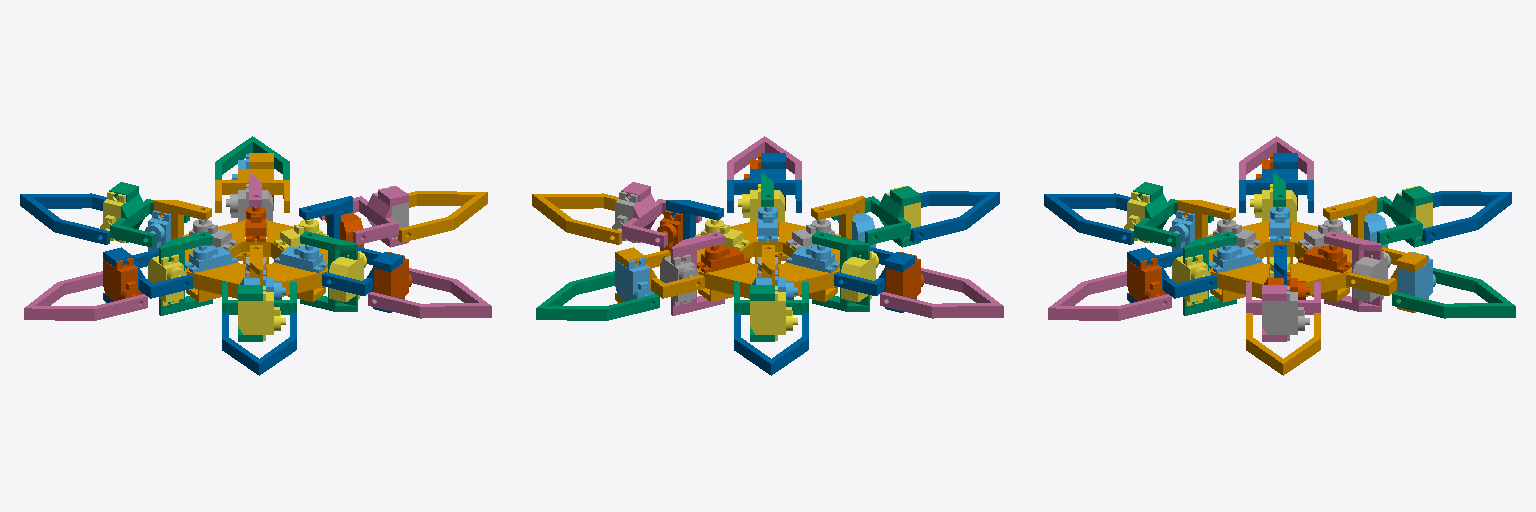
--- What the picture shows (computed from the rendered views, not written in the file) ---
The picture shows the robot from 3 angles, left to right: view 1: azimuth 30°, elevation 25°; view 2: azimuth 150°, elevation 25°; view 3: azimuth 270°, elevation 25°; orthographic projection.
Robot: MiniHex — 37 links, 36 joints (18 continuous, 18 fixed); root link base_link; default pose: all joints at 0.
Links seen in each view (by area): view 1: base_link, Hex_Leg_End_51, Hex_Leg_End_11, Hex_Leg_End_21, Hex_Leg_End_41, Hex_Leg_Joint_41, Hex_Leg_Joint_21, Hex_Leg_Joint_31, Hex_Leg_End_61, Hex_Leg_Joint_11, Hip_Mount_51, 9g_servo_6C1 (+18 smaller); view 2: base_link, Hex_Leg_End_11, Hex_Leg_End_31, Hex_Leg_End_41, Hex_Leg_End_61, Hex_Leg_Joint_61, Hex_Leg_Joint_41, Hex_Leg_Joint_51, Hex_Leg_End_21, Hex_Leg_Joint_31, Hip_Mount_11, 9g_servo_2C1 (+18 smaller); view 3: base_link, Hex_Leg_End_31, Hex_Leg_End_51, Hex_Leg_End_61, Hex_Leg_End_21, Hex_Leg_Joint_21, Hex_Leg_Joint_61, Hex_Leg_Joint_11, Hex_Leg_End_41, Hex_Leg_Joint_51, Hip_Mount_31, 9g_servo_4C1 (+18 smaller).
Boxes of the visible links, x1,y1,x2,y2 form: base_link: (183, 220, 328, 302); Hex_Leg_End_51: (368, 268, 491, 318); Hex_Leg_End_11: (24, 271, 147, 320); Hex_Leg_End_21: (20, 193, 109, 244); Hex_Leg_End_41: (398, 191, 487, 242); Hex_Leg_Joint_41: (319, 186, 408, 247); Hex_Leg_Joint_21: (109, 182, 189, 247); Hex_Leg_Joint_31: (215, 153, 289, 212); Hex_Leg_End_61: (222, 313, 296, 375); Hex_Leg_Joint_11: (103, 247, 192, 302); Hip_Mount_51: (300, 231, 357, 311); 9g_servo_6C1: (238, 286, 285, 340); base_link: (695, 220, 840, 302); Hex_Leg_End_11: (880, 268, 1003, 318); Hex_Leg_End_31: (536, 271, 659, 320); Hex_Leg_End_41: (532, 193, 621, 244); Hex_Leg_End_61: (910, 191, 999, 242); Hex_Leg_Joint_61: (831, 186, 920, 247); Hex_Leg_Joint_41: (621, 182, 701, 247); Hex_Leg_Joint_51: (727, 153, 801, 212); Hex_Leg_End_21: (734, 313, 808, 375); Hex_Leg_Joint_31: (615, 247, 704, 302); Hip_Mount_11: (812, 231, 869, 311); 9g_servo_2C1: (750, 286, 797, 340); base_link: (1207, 220, 1352, 302); Hex_Leg_End_31: (1392, 268, 1515, 318); Hex_Leg_End_51: (1048, 271, 1171, 320); Hex_Leg_End_61: (1044, 193, 1133, 244); Hex_Leg_End_21: (1422, 191, 1511, 242); Hex_Leg_Joint_21: (1343, 186, 1432, 247); Hex_Leg_Joint_61: (1133, 182, 1213, 247); Hex_Leg_Joint_11: (1239, 153, 1313, 212); Hex_Leg_End_41: (1246, 313, 1320, 375); Hex_Leg_Joint_51: (1127, 247, 1216, 302); Hip_Mount_31: (1324, 231, 1381, 311); 9g_servo_4C1: (1262, 286, 1309, 340).
Size in the robot's own frame: 0.3335 by 0.2909 by 0.046 metres.
37 mesh visuals loaded from 37 distinct referenced files (37 binary STL).

The robot description file, URDF, robot "MiniHex":
<?xml version="1.0" ?>
<robot name="MiniHex">

<material name="silver">
  <color rgba="0.700 0.700 0.700 1.000"/>
</material>

<material name="red">
  <color rgba="1.000 0.000 0.000 1.000"/>
</material>

<material name="green">
  <color rgba="0.000 1.000 0.000 1.000"/>
</material>

<material name="blue">
  <color rgba="0.000 0.000 1.000 1.000"/>
</material>

<material name="yellow">
  <color rgba="1.000 0.900 0.000 1.000"/>
</material>

<link name="base_link">
  <inertial>
    <origin xyz="-2.5465707758764093e-16 -3.145863765132658e-13 0.0024101543695510897" rpy="0 0 0"/>
    <mass value="0.42053809047151236"/>
    <inertia ixx="0.00028254911235019707" iyy="0.00028226882743274896" izz="0.0005380720803144401" ixy="-7.139533408580586e-19" iyz="-1.2041830102324297e-16" ixz="-1.688664970194084e-19"/>
  </inertial>
  <visual>
    <origin xyz="0 0 0" rpy="0 0 0"/>
    <geometry>
      <mesh filename="meshes/base_link.stl" scale="0.001 0.001 0.001"/>
    </geometry>
    <material name="blue"/>
    <material/>
  </visual>
  <collision>
    <origin xyz="0 0 0" rpy="0 0 0"/>
    <geometry>
      <mesh filename="meshes/base_link.stl" scale="0.001 0.001 0.001"/>
    </geometry>
  </collision>
</link>

<link name="9g_servo_1A1">
  <inertial>
    <origin xyz="-0.014271299478847452 1.1511731251974464e-10 -0.0024958056337759894" rpy="0 0 0"/>
    <mass value="0.055054783503500355"/>
    <inertia ixx="3.4536923767764674e-06" iyy="5.269670254190792e-06" izz="3.20378515754883e-06" ixy="-1.573879877911482e-14" iyz="2.1462796422866795e-14" ixz="3.7937499037505966e-07"/>
  </inertial>
  <visual>
    <origin xyz="0.0185 -0.0 -0.01" rpy="0 0 0"/>
    <geometry>
      <mesh filename="meshes/9g_servo_1A1.stl" scale="0.001 0.001 0.001"/>
    </geometry>
    <material name="yellow"/>
    <material/>
  </visual>
  <collision>
    <origin xyz="0.0185 -0.0 -0.01" rpy="0 0 0"/>
    <geometry>
      <mesh filename="meshes/9g_servo_1A1.stl" scale="0.001 0.001 0.001"/>
    </geometry>
  </collision>
</link>

<link name="Hip_Mount_11">
  <inertial>
    <origin xyz="-0.015286152121437399 -0.0006288649548319852 -0.016324077864696748" rpy="0 0 0"/>
    <mass value="0.032534903343574804"/>
    <inertia ixx="1.0000836670587191e-05" iyy="1.217229322945846e-05" izz="2.5332634841258048e-06" ixy="-1.4004600538383113e-07" iyz="-6.056877241274784e-09" ixz="-2.635468996168281e-08"/>
  </inertial>
  <visual>
    <origin xyz="0.037558 -0.0 -0.024275" rpy="0 0 0"/>
    <geometry>
      <mesh filename="meshes/Hip_Mount_11.stl" scale="0.001 0.001 0.001"/>
    </geometry>
    <material name="red"/>
    <material/>
  </visual>
  <collision>
    <origin xyz="0.037558 -0.0 -0.024275" rpy="0 0 0"/>
    <geometry>
      <mesh filename="meshes/Hip_Mount_11.stl" scale="0.001 0.001 0.001"/>
    </geometry>
  </collision>
</link>

<link name="9g_servo_1B1">
  <inertial>
    <origin xyz="-0.0005051736542879826 0.0024957004185076253 -0.013240640785541866" rpy="0 0 0"/>
    <mass value="0.05505478350350033"/>
    <inertia ixx="5.269618000874426e-06" iyy="3.20393809208813e-06" izz="3.4538924084124894e-06" ixy="-5.516306298229137e-12" iyz="3.793636676912937e-07" ixz="2.7506613699550438e-11"/>
  </inertial>
  <visual>
    <origin xyz="0.06374 0.00425 -0.022044" rpy="0 0 0"/>
    <geometry>
      <mesh filename="meshes/9g_servo_1B1.stl" scale="0.001 0.001 0.001"/>
    </geometry>
    <material name="yellow"/>
    <material/>
  </visual>
  <collision>
    <origin xyz="0.06374 0.00425 -0.022044" rpy="0 0 0"/>
    <geometry>
      <mesh filename="meshes/9g_servo_1B1.stl" scale="0.001 0.001 0.001"/>
    </geometry>
  </collision>
</link>

<link name="Hex_Leg_Joint_11">
  <inertial>
    <origin xyz="-0.02279618097426557 0.018608847716086164 -0.0002798785329614483" rpy="0 0 0"/>
    <mass value="0.048136391007076396"/>
    <inertia ixx="1.1974987914456798e-05" iyy="8.125439311283905e-06" izz="1.3118820247000047e-05" ixy="8.188768866583927e-07" iyz="-4.1189558944753496e-10" ixz="3.5300690483670285e-09"/>
  </inertial>
  <visual>
    <origin xyz="0.063809 0.018525 -0.014054" rpy="0 0 0"/>
    <geometry>
      <mesh filename="meshes/Hex_Leg_Joint_11.stl" scale="0.001 0.001 0.001"/>
    </geometry>
    <material name="red"/>
    <material/>
  </visual>
  <collision>
    <origin xyz="0.063809 0.018525 -0.014054" rpy="0 0 0"/>
    <geometry>
      <mesh filename="meshes/Hex_Leg_Joint_11.stl" scale="0.001 0.001 0.001"/>
    </geometry>
  </collision>
</link>

<link name="9g_servo_1C1">
  <inertial>
    <origin xyz="-0.0005070476232626325 0.0025177012982494948 -0.01354802288656062" rpy="0 0 0"/>
    <mass value="0.055054783503500314"/>
    <inertia ixx="5.269623391652945e-06" iyy="3.2041982411880375e-06" izz="3.454147166738822e-06" ixy="-8.234379835842442e-12" iyz="-3.793617562696562e-07" ixz="6.460354033145915e-11"/>
  </inertial>
  <visual>
    <origin xyz="0.095986 0.004044 -0.027056" rpy="0 0 0"/>
    <geometry>
      <mesh filename="meshes/9g_servo_1C1.stl" scale="0.001 0.001 0.001"/>
    </geometry>
    <material name="yellow"/>
    <material/>
  </visual>
  <collision>
    <origin xyz="0.095986 0.004044 -0.027056" rpy="0 0 0"/>
    <geometry>
      <mesh filename="meshes/9g_servo_1C1.stl" scale="0.001 0.001 0.001"/>
    </geometry>
  </collision>
</link>

<link name="Hex_Leg_End_11">
  <inertial>
    <origin xyz="-0.034049190150787806 0.016026216123514167 -3.8583269864327085e-05" rpy="0 0 0"/>
    <mass value="0.04016569851390242"/>
    <inertia ixx="1.1474042664158023e-05" iyy="1.6364460028107236e-05" izz="2.7404615065756434e-05" ixy="-7.477551223559862e-10" iyz="1.5909132597507857e-13" ixz="5.053527686180376e-09"/>
  </inertial>
  <visual>
    <origin xyz="0.095804 0.018069 -0.008069" rpy="0 0 0"/>
    <geometry>
      <mesh filename="meshes/Hex_Leg_End_11.stl" scale="0.001 0.001 0.001"/>
    </geometry>
    <material name="green"/>
    <material/>
  </visual>
  <collision>
    <origin xyz="0.095804 0.018069 -0.008069" rpy="0 0 0"/>
    <geometry>
      <mesh filename="meshes/Hex_Leg_End_11.stl" scale="0.001 0.001 0.001"/>
    </geometry>
  </collision>
</link>

<link name="9g_servo_2A1">
  <inertial>
    <origin xyz="-0.007135655637466149 0.01235978828604464 -0.002495801992830637" rpy="0 0 0"/>
    <mass value="0.05505477172840249"/>
    <inertia ixx="4.815661309975585e-06" iyy="3.907681847545061e-06" izz="3.203766235917451e-06" ixy="7.863332915432041e-07" iyz="-3.285451459287048e-07" ixz="1.8968565597864854e-07"/>
  </inertial>
  <visual>
    <origin xyz="0.00925 -0.016021 -0.01" rpy="0 0 0"/>
    <geometry>
      <mesh filename="meshes/9g_servo_2A1.stl" scale="0.001 0.001 0.001"/>
    </geometry>
    <material name="yellow"/>
    <material/>
  </visual>
  <collision>
    <origin xyz="0.00925 -0.016021 -0.01" rpy="0 0 0"/>
    <geometry>
      <mesh filename="meshes/9g_servo_2A1.stl" scale="0.001 0.001 0.001"/>
    </geometry>
  </collision>
</link>

<link name="Hip_Mount_21">
  <inertial>
    <origin xyz="-0.008187689087174762 0.012923945701157583 -0.016324077865203526" rpy="0 0 0"/>
    <mass value="0.03253490334357478"/>
    <inertia ixx="1.150814569123448e-05" iyy="1.0664984208686909e-05" izz="2.5332634839972184e-06" ixy="1.0102912742709978e-06" iyz="1.979539219249969e-08" ixz="-1.8422754658143607e-08"/>
  </inertial>
  <visual>
    <origin xyz="0.018779 -0.032526 -0.024275" rpy="0 0 0"/>
    <geometry>
      <mesh filename="meshes/Hip_Mount_21.stl" scale="0.001 0.001 0.001"/>
    </geometry>
    <material name="red"/>
    <material/>
  </visual>
  <collision>
    <origin xyz="0.018779 -0.032526 -0.024275" rpy="0 0 0"/>
    <geometry>
      <mesh filename="meshes/Hip_Mount_21.stl" scale="0.001 0.001 0.001"/>
    </geometry>
  </collision>
</link>

<link name="9g_servo_2B1">
  <inertial>
    <origin xyz="0.001909169038870652 0.0016847749490938452 -0.013240651855446789" rpy="0 0 0"/>
    <mass value="0.055054783544440086"/>
    <inertia ixx="3.720443650770199e-06" iyy="4.753233623190468e-06" izz="3.4540165574080167e-06" ixy="-8.944045723033339e-07" iyz="1.8964152887652804e-07" ixz="3.2855822153123924e-07"/>
  </inertial>
  <visual>
    <origin xyz="0.035551 -0.053076 -0.022044" rpy="0 0 0"/>
    <geometry>
      <mesh filename="meshes/9g_servo_2B1.stl" scale="0.001 0.001 0.001"/>
    </geometry>
    <material name="yellow"/>
    <material/>
  </visual>
  <collision>
    <origin xyz="0.035551 -0.053076 -0.022044" rpy="0 0 0"/>
    <geometry>
      <mesh filename="meshes/9g_servo_2B1.stl" scale="0.001 0.001 0.001"/>
    </geometry>
  </collision>
</link>

<link name="Hex_Leg_Joint_21">
  <inertial>
    <origin xyz="0.004718023765293365 0.029047210680837467 -0.00027987853504113196" rpy="0 0 0"/>
    <mass value="0.04813639100707639"/>
    <inertia ixx="9.79699464849509e-06" iyy="1.0303432577245047e-05" izz="1.3118820247000373e-05" ixy="-2.0763418850543365e-06" iyz="-3.2630771138177582e-09" ixz="1.4083225705715694e-09"/>
  </inertial>
  <visual>
    <origin xyz="0.047948 -0.045997 -0.014054" rpy="0 0 0"/>
    <geometry>
      <mesh filename="meshes/Hex_Leg_Joint_21.stl" scale="0.001 0.001 0.001"/>
    </geometry>
    <material name="red"/>
    <material/>
  </visual>
  <collision>
    <origin xyz="0.047948 -0.045997 -0.014054" rpy="0 0 0"/>
    <geometry>
      <mesh filename="meshes/Hex_Leg_Joint_21.stl" scale="0.001 0.001 0.001"/>
    </geometry>
  </collision>
</link>

<link name="9g_servo_2C1">
  <inertial>
    <origin xyz="0.0019276166695239433 0.001697341300166133 -0.013548020971379414" rpy="0 0 0"/>
    <mass value="0.055054783555037665"/>
    <inertia ixx="3.7202519620292826e-06" iyy="4.753169228184038e-06" izz="3.4537519772458213e-06" ixy="-8.945302084741123e-07" iyz="-1.896908426815986e-07" ixz="-3.285384084808927e-07"/>
  </inertial>
  <visual>
    <origin xyz="0.051496 -0.081105 -0.027056" rpy="0 0 0"/>
    <geometry>
      <mesh filename="meshes/9g_servo_2C1.stl" scale="0.001 0.001 0.001"/>
    </geometry>
    <material name="yellow"/>
    <material/>
  </visual>
  <collision>
    <origin xyz="0.051496 -0.081105 -0.027056" rpy="0 0 0"/>
    <geometry>
      <mesh filename="meshes/9g_servo_2C1.stl" scale="0.001 0.001 0.001"/>
    </geometry>
  </collision>
</link>

<link name="Hex_Leg_End_21">
  <inertial>
    <origin xyz="-0.0031446978070062553 0.0375007694949408 -3.858327304499809e-05" rpy="0 0 0"/>
    <mass value="0.04016569851390239"/>
    <inertia ixx="1.5141208112188164e-05" iyy="1.2697294580077037e-05" izz="2.7404615065756868e-05" ixy="2.1179867137054186e-06" iyz="-4.37640347324532e-09" ixz="2.5269016933282757e-09"/>
  </inertial>
  <visual>
    <origin xyz="0.063551 -0.073934 -0.008069" rpy="0 0 0"/>
    <geometry>
      <mesh filename="meshes/Hex_Leg_End_21.stl" scale="0.001 0.001 0.001"/>
    </geometry>
    <material name="green"/>
    <material/>
  </visual>
  <collision>
    <origin xyz="0.063551 -0.073934 -0.008069" rpy="0 0 0"/>
    <geometry>
      <mesh filename="meshes/Hex_Leg_End_21.stl" scale="0.001 0.001 0.001"/>
    </geometry>
  </collision>
</link>

<link name="9g_servo_3A1">
  <inertial>
    <origin xyz="0.007135656031083909 0.012359788504810496 -0.002495801883656234" rpy="0 0 0"/>
    <mass value="0.05505477131119869"/>
    <inertia ixx="4.815660867631067e-06" iyy="3.907681655282897e-06" izz="3.2037656295469e-06" ixy="-7.863330136425903e-07" iyz="-3.28545062856289e-07" ixz="-1.8968555941381444e-07"/>
  </inertial>
  <visual>
    <origin xyz="-0.00925 -0.016021 -0.01" rpy="0 0 0"/>
    <geometry>
      <mesh filename="meshes/9g_servo_3A1.stl" scale="0.001 0.001 0.001"/>
    </geometry>
    <material name="yellow"/>
    <material/>
  </visual>
  <collision>
    <origin xyz="-0.00925 -0.016021 -0.01" rpy="0 0 0"/>
    <geometry>
      <mesh filename="meshes/9g_servo_3A1.stl" scale="0.001 0.001 0.001"/>
    </geometry>
  </collision>
</link>

<link name="Hip_Mount_31">
  <inertial>
    <origin xyz="0.007098463034262887 0.013552810655989574 -0.01632407786558164" rpy="0 0 0"/>
    <mass value="0.03253490334357481"/>
    <inertia ixx="1.1750712487964136e-05" iyy="1.0422417411965123e-05" izz="2.533263484003778e-06" ixy="-8.702452688871807e-07" iyz="2.5852269459370963e-08" ixz="7.93193534530894e-09"/>
  </inertial>
  <visual>
    <origin xyz="-0.018779 -0.032526 -0.024275" rpy="0 0 0"/>
    <geometry>
      <mesh filename="meshes/Hip_Mount_31.stl" scale="0.001 0.001 0.001"/>
    </geometry>
    <material name="red"/>
    <material/>
  </visual>
  <collision>
    <origin xyz="-0.018779 -0.032526 -0.024275" rpy="0 0 0"/>
    <geometry>
      <mesh filename="meshes/Hip_Mount_31.stl" scale="0.001 0.001 0.001"/>
    </geometry>
  </collision>
</link>

<link name="9g_servo_3B1">
  <inertial>
    <origin xyz="0.0024143350513842095 -0.0008108499730559715 -0.013240625385414075" rpy="0 0 0"/>
    <mass value="0.05505478355503765"/>
    <inertia ixx="3.7202289065960147e-06" iyy="4.753159110494176e-06" izz="3.453720150994226e-06" ixy="8.945448485450874e-07" iyz="-1.8968694850744107e-07" ixz="3.2854093252003857e-07"/>
  </inertial>
  <visual>
    <origin xyz="-0.028189 -0.057326 -0.022044" rpy="0 0 0"/>
    <geometry>
      <mesh filename="meshes/9g_servo_3B1.stl" scale="0.001 0.001 0.001"/>
    </geometry>
    <material name="yellow"/>
    <material/>
  </visual>
  <collision>
    <origin xyz="-0.028189 -0.057326 -0.022044" rpy="0 0 0"/>
    <geometry>
      <mesh filename="meshes/9g_servo_3B1.stl" scale="0.001 0.001 0.001"/>
    </geometry>
  </collision>
</link>

<link name="Hex_Leg_Joint_31">
  <inertial>
    <origin xyz="0.027514204739558942 0.010438362965465992 -0.00027987853366591604" rpy="0 0 0"/>
    <mass value="0.04813639100707643"/>
    <inertia ixx="8.378658275659155e-06" iyy="1.1721768950081782e-05" izz="1.3118820247000318e-05" ixy="1.2574649983962383e-06" iyz="-2.8511816858487696e-09" ixz="-2.121746607852286e-09"/>
  </inertial>
  <visual>
    <origin xyz="-0.015861 -0.064522 -0.014054" rpy="0 0 0"/>
    <geometry>
      <mesh filename="meshes/Hex_Leg_Joint_31.stl" scale="0.001 0.001 0.001"/>
    </geometry>
    <material name="red"/>
    <material/>
  </visual>
  <collision>
    <origin xyz="-0.015861 -0.064522 -0.014054" rpy="0 0 0"/>
    <geometry>
      <mesh filename="meshes/Hex_Leg_Joint_31.stl" scale="0.001 0.001 0.001"/>
    </geometry>
  </collision>
</link>

<link name="9g_servo_3C1">
  <inertial>
    <origin xyz="0.0024336894467891085 -0.0008204699730596648 -0.013548024268368623" rpy="0 0 0"/>
    <mass value="0.05505478354444006"/>
    <inertia ixx="3.7207830988136305e-06" iyy="4.7533267608861984e-06" izz="3.4544315791176696e-06" ixy="8.94236063099605e-07" iyz="1.895876346813877e-07" ixz="-3.2858574179222183e-07"/>
  </inertial>
  <visual>
    <origin xyz="-0.044491 -0.085149 -0.027056" rpy="0 0 0"/>
    <geometry>
      <mesh filename="meshes/9g_servo_3C1.stl" scale="0.001 0.001 0.001"/>
    </geometry>
    <material name="yellow"/>
    <material/>
  </visual>
  <collision>
    <origin xyz="-0.044491 -0.085149 -0.027056" rpy="0 0 0"/>
    <geometry>
      <mesh filename="meshes/9g_servo_3C1.stl" scale="0.001 0.001 0.001"/>
    </geometry>
  </collision>
</link>

<link name="Hex_Leg_End_31">
  <inertial>
    <origin xyz="0.0309034923437815 0.021473553371033238 -3.85832711958696e-05" rpy="0 0 0"/>
    <mass value="0.04016569851390234"/>
    <inertia ixx="1.5142503262051714e-05" iyy="1.269599943021338e-05" izz="2.7404615065756976e-05" ixy="-2.11723895858322e-06" iyz="-4.376562542773431e-09" ixz="-2.526625892959811e-09"/>
  </inertial>
  <visual>
    <origin xyz="-0.032254 -0.092004 -0.008069" rpy="0 0 0"/>
    <geometry>
      <mesh filename="meshes/Hex_Leg_End_31.stl" scale="0.001 0.001 0.001"/>
    </geometry>
    <material name="green"/>
    <material/>
  </visual>
  <collision>
    <origin xyz="-0.032254 -0.092004 -0.008069" rpy="0 0 0"/>
    <geometry>
      <mesh filename="meshes/Hex_Leg_End_31.stl" scale="0.001 0.001 0.001"/>
    </geometry>
  </collision>
</link>

<link name="9g_servo_4A1">
  <inertial>
    <origin xyz="0.014271299478847452 -1.1511730860065267e-10 -0.0024958056337759894" rpy="0 0 0"/>
    <mass value="0.05505478350350035"/>
    <inertia ixx="3.4536923767764704e-06" iyy="5.269670254190792e-06" izz="3.203785157548823e-06" ixy="-1.5738799330725996e-14" iyz="-2.1462796539908703e-14" ixz="-3.7937499037506136e-07"/>
  </inertial>
  <visual>
    <origin xyz="-0.0185 -0.0 -0.01" rpy="0 0 0"/>
    <geometry>
      <mesh filename="meshes/9g_servo_4A1.stl" scale="0.001 0.001 0.001"/>
    </geometry>
    <material name="yellow"/>
    <material/>
  </visual>
  <collision>
    <origin xyz="-0.0185 -0.0 -0.01" rpy="0 0 0"/>
    <geometry>
      <mesh filename="meshes/9g_servo_4A1.stl" scale="0.001 0.001 0.001"/>
    </geometry>
  </collision>
</link>

<link name="Hip_Mount_41">
  <inertial>
    <origin xyz="0.015286152121437399 0.0006288649548319897 -0.016324077864696748" rpy="0 0 0"/>
    <mass value="0.0325349033435748"/>
    <inertia ixx="1.000083667058719e-05" iyy="1.2172293229458406e-05" izz="2.533263484125764e-06" ixy="-1.4004600538383367e-07" iyz="6.056877241272084e-09" ixz="2.6354689961664176e-08"/>
  </inertial>
  <visual>
    <origin xyz="-0.037558 0.0 -0.024275" rpy="0 0 0"/>
    <geometry>
      <mesh filename="meshes/Hip_Mount_41.stl" scale="0.001 0.001 0.001"/>
    </geometry>
    <material name="red"/>
    <material/>
  </visual>
  <collision>
    <origin xyz="-0.037558 0.0 -0.024275" rpy="0 0 0"/>
    <geometry>
      <mesh filename="meshes/Hip_Mount_41.stl" scale="0.001 0.001 0.001"/>
    </geometry>
  </collision>
</link>

<link name="9g_servo_4B1">
  <inertial>
    <origin xyz="0.0005051736542879826 -0.0024957004185076153 -0.013240640785541866" rpy="0 0 0"/>
    <mass value="0.055054783503500335"/>
    <inertia ixx="5.269618000874433e-06" iyy="3.2039380920882384e-06" izz="3.453892408412598e-06" ixy="-5.5163063050054e-12" iyz="-3.7936366769129487e-07" ixz="-2.7506613699550438e-11"/>
  </inertial>
  <visual>
    <origin xyz="-0.06374 -0.00425 -0.022044" rpy="0 0 0"/>
    <geometry>
      <mesh filename="meshes/9g_servo_4B1.stl" scale="0.001 0.001 0.001"/>
    </geometry>
    <material name="yellow"/>
    <material/>
  </visual>
  <collision>
    <origin xyz="-0.06374 -0.00425 -0.022044" rpy="0 0 0"/>
    <geometry>
      <mesh filename="meshes/9g_servo_4B1.stl" scale="0.001 0.001 0.001"/>
    </geometry>
  </collision>
</link>

<link name="Hex_Leg_Joint_41">
  <inertial>
    <origin xyz="0.022796180974265584 -0.01860884771608615 -0.00027987853296145525" rpy="0 0 0"/>
    <mass value="0.0481363910070764"/>
    <inertia ixx="1.1974987914456777e-05" iyy="8.12543931128396e-06" izz="1.3118820247000047e-05" ixy="8.188768866583808e-07" iyz="4.11895589441791e-10" ixz="-3.530069048380581e-09"/>
  </inertial>
  <visual>
    <origin xyz="-0.063809 -0.018525 -0.014054" rpy="0 0 0"/>
    <geometry>
      <mesh filename="meshes/Hex_Leg_Joint_41.stl" scale="0.001 0.001 0.001"/>
    </geometry>
    <material name="red"/>
    <material/>
  </visual>
  <collision>
    <origin xyz="-0.063809 -0.018525 -0.014054" rpy="0 0 0"/>
    <geometry>
      <mesh filename="meshes/Hex_Leg_Joint_41.stl" scale="0.001 0.001 0.001"/>
    </geometry>
  </collision>
</link>

<link name="9g_servo_4C1">
  <inertial>
    <origin xyz="0.0005070476232626464 -0.002517701298249484 -0.013548022886560625" rpy="0 0 0"/>
    <mass value="0.055054783503500314"/>
    <inertia ixx="5.26962339165295e-06" iyy="3.204198241187929e-06" izz="3.454147166738822e-06" ixy="-8.234379834148376e-12" iyz="3.7936175626965505e-07" ixz="-6.460354031790662e-11"/>
  </inertial>
  <visual>
    <origin xyz="-0.095986 -0.004044 -0.027056" rpy="0 0 0"/>
    <geometry>
      <mesh filename="meshes/9g_servo_4C1.stl" scale="0.001 0.001 0.001"/>
    </geometry>
    <material name="yellow"/>
    <material/>
  </visual>
  <collision>
    <origin xyz="-0.095986 -0.004044 -0.027056" rpy="0 0 0"/>
    <geometry>
      <mesh filename="meshes/9g_servo_4C1.stl" scale="0.001 0.001 0.001"/>
    </geometry>
  </collision>
</link>

<link name="Hex_Leg_End_41">
  <inertial>
    <origin xyz="0.034049190150787806 -0.016026216123514143 -3.8583269864323616e-05" rpy="0 0 0"/>
    <mass value="0.04016569851390242"/>
    <inertia ixx="1.1474042664158043e-05" iyy="1.6364460028107236e-05" izz="2.740461506575665e-05" ixy="-7.477551223881735e-10" iyz="-1.5909132205755119e-13" ixz="-5.053527686166824e-09"/>
  </inertial>
  <visual>
    <origin xyz="-0.095804 -0.018069 -0.008069" rpy="0 0 0"/>
    <geometry>
      <mesh filename="meshes/Hex_Leg_End_41.stl" scale="0.001 0.001 0.001"/>
    </geometry>
    <material name="green"/>
    <material/>
  </visual>
  <collision>
    <origin xyz="-0.095804 -0.018069 -0.008069" rpy="0 0 0"/>
    <geometry>
      <mesh filename="meshes/Hex_Leg_End_41.stl" scale="0.001 0.001 0.001"/>
    </geometry>
  </collision>
</link>

<link name="9g_servo_5A1">
  <inertial>
    <origin xyz="0.007135655637466156 -0.012359788286044626 -0.002495801992830635" rpy="0 0 0"/>
    <mass value="0.05505477172840251"/>
    <inertia ixx="4.815661309975605e-06" iyy="3.907681847545061e-06" izz="3.203766235917485e-06" ixy="7.863332915432109e-07" iyz="3.285451459287065e-07" ixz="-1.8968565597864685e-07"/>
  </inertial>
  <visual>
    <origin xyz="-0.00925 0.016021 -0.01" rpy="0 0 0"/>
    <geometry>
      <mesh filename="meshes/9g_servo_5A1.stl" scale="0.001 0.001 0.001"/>
    </geometry>
    <material name="yellow"/>
    <material/>
  </visual>
  <collision>
    <origin xyz="-0.00925 0.016021 -0.01" rpy="0 0 0"/>
    <geometry>
      <mesh filename="meshes/9g_servo_5A1.stl" scale="0.001 0.001 0.001"/>
    </geometry>
  </collision>
</link>

<link name="Hip_Mount_51">
  <inertial>
    <origin xyz="0.008187689087174762 -0.012923945701157548 -0.016324077865203512" rpy="0 0 0"/>
    <mass value="0.0325349033435748"/>
    <inertia ixx="1.1508145691241906e-05" iyy="1.0664984208686672e-05" izz="2.533263484004889e-06" ixy="1.010291274271025e-06" iyz="-1.979539219247428e-08" ixz="1.842275465814615e-08"/>
  </inertial>
  <visual>
    <origin xyz="-0.018779 0.032526 -0.024275" rpy="0 0 0"/>
    <geometry>
      <mesh filename="meshes/Hip_Mount_51.stl" scale="0.001 0.001 0.001"/>
    </geometry>
    <material name="red"/>
    <material/>
  </visual>
  <collision>
    <origin xyz="-0.018779 0.032526 -0.024275" rpy="0 0 0"/>
    <geometry>
      <mesh filename="meshes/Hip_Mount_51.stl" scale="0.001 0.001 0.001"/>
    </geometry>
  </collision>
</link>

<link name="9g_servo_5B1">
  <inertial>
    <origin xyz="-0.001909169038870638 -0.0016847749490938313 -0.013240651855446796" rpy="0 0 0"/>
    <mass value="0.05505478354444008"/>
    <inertia ixx="3.7204436507702534e-06" iyy="4.753233623190468e-06" izz="3.454016557408315e-06" ixy="-8.944045723033203e-07" iyz="-1.8964152887652804e-07" ixz="-3.2855822153124263e-07"/>
  </inertial>
  <visual>
    <origin xyz="-0.035551 0.053076 -0.022044" rpy="0 0 0"/>
    <geometry>
      <mesh filename="meshes/9g_servo_5B1.stl" scale="0.001 0.001 0.001"/>
    </geometry>
    <material name="yellow"/>
    <material/>
  </visual>
  <collision>
    <origin xyz="-0.035551 0.053076 -0.022044" rpy="0 0 0"/>
    <geometry>
      <mesh filename="meshes/9g_servo_5B1.stl" scale="0.001 0.001 0.001"/>
    </geometry>
  </collision>
</link>

<link name="Hex_Leg_Joint_51">
  <inertial>
    <origin xyz="-0.004718023765293365 -0.02904721068083748 -0.0002798785350411545" rpy="0 0 0"/>
    <mass value="0.048136391007076416"/>
    <inertia ixx="9.796994648495036e-06" iyy="1.0303432577245142e-05" izz="1.3118820247000427e-05" ixy="-2.0763418850544178e-06" iyz="3.2630771137771007e-09" ixz="-1.408322570585122e-09"/>
  </inertial>
  <visual>
    <origin xyz="-0.047948 0.045997 -0.014054" rpy="0 0 0"/>
    <geometry>
      <mesh filename="meshes/Hex_Leg_Joint_51.stl" scale="0.001 0.001 0.001"/>
    </geometry>
    <material name="red"/>
    <material/>
  </visual>
  <collision>
    <origin xyz="-0.047948 0.045997 -0.014054" rpy="0 0 0"/>
    <geometry>
      <mesh filename="meshes/Hex_Leg_Joint_51.stl" scale="0.001 0.001 0.001"/>
    </geometry>
  </collision>
</link>

<link name="9g_servo_5C1">
  <inertial>
    <origin xyz="-0.0019276166695239086 -0.0016973413001660775 -0.013548020971379441" rpy="0 0 0"/>
    <mass value="0.055054783555037665"/>
    <inertia ixx="3.7202519620293368e-06" iyy="4.7531692281839834e-06" izz="3.4537519772456044e-06" ixy="-8.945302084741394e-07" iyz="1.8969084268158506e-07" ixz="3.28538408480913e-07"/>
  </inertial>
  <visual>
    <origin xyz="-0.051496 0.081105 -0.027056" rpy="0 0 0"/>
    <geometry>
      <mesh filename="meshes/9g_servo_5C1.stl" scale="0.001 0.001 0.001"/>
    </geometry>
    <material name="yellow"/>
    <material/>
  </visual>
  <collision>
    <origin xyz="-0.051496 0.081105 -0.027056" rpy="0 0 0"/>
    <geometry>
      <mesh filename="meshes/9g_servo_5C1.stl" scale="0.001 0.001 0.001"/>
    </geometry>
  </collision>
</link>

<link name="Hex_Leg_End_51">
  <inertial>
    <origin xyz="0.003144697807006311 -0.03750076949494069 -3.8583273045036254e-05" rpy="0 0 0"/>
    <mass value="0.04016569851390242"/>
    <inertia ixx="1.514120811218838e-05" iyy="1.2697294580076956e-05" izz="2.7404615065757193e-05" ixy="2.1179867137055813e-06" iyz="4.376403473252096e-09" ixz="-2.526901693331664e-09"/>
  </inertial>
  <visual>
    <origin xyz="-0.063551 0.073934 -0.008069" rpy="0 0 0"/>
    <geometry>
      <mesh filename="meshes/Hex_Leg_End_51.stl" scale="0.001 0.001 0.001"/>
    </geometry>
    <material name="green"/>
    <material/>
  </visual>
  <collision>
    <origin xyz="-0.063551 0.073934 -0.008069" rpy="0 0 0"/>
    <geometry>
      <mesh filename="meshes/Hex_Leg_End_51.stl" scale="0.001 0.001 0.001"/>
    </geometry>
  </collision>
</link>

<link name="9g_servo_6A1">
  <inertial>
    <origin xyz="-0.007135656031083905 -0.012359788504810489 -0.002495801883656238" rpy="0 0 0"/>
    <mass value="0.055054771311198666"/>
    <inertia ixx="4.815660867631073e-06" iyy="3.907681655282904e-06" izz="3.2037656295469066e-06" ixy="-7.863330136425971e-07" iyz="3.2854506285629916e-07" ixz="1.8968555941381444e-07"/>
  </inertial>
  <visual>
    <origin xyz="0.00925 0.016021 -0.01" rpy="0 0 0"/>
    <geometry>
      <mesh filename="meshes/9g_servo_6A1.stl" scale="0.001 0.001 0.001"/>
    </geometry>
    <material name="yellow"/>
    <material/>
  </visual>
  <collision>
    <origin xyz="0.00925 0.016021 -0.01" rpy="0 0 0"/>
    <geometry>
      <mesh filename="meshes/9g_servo_6A1.stl" scale="0.001 0.001 0.001"/>
    </geometry>
  </collision>
</link>

<link name="Hip_Mount_61">
  <inertial>
    <origin xyz="-0.0070984630342628904 -0.013552810655989615 -0.016324077865581644" rpy="0 0 0"/>
    <mass value="0.03253490334357479"/>
    <inertia ixx="1.1750712487958254e-05" iyy="1.042241741196533e-05" izz="2.5332634839977063e-06" ixy="-8.70245268887201e-07" iyz="-2.5852269459379434e-08" ixz="-7.93193534530894e-09"/>
  </inertial>
  <visual>
    <origin xyz="0.018779 0.032526 -0.024275" rpy="0 0 0"/>
    <geometry>
      <mesh filename="meshes/Hip_Mount_61.stl" scale="0.001 0.001 0.001"/>
    </geometry>
    <material name="red"/>
    <material/>
  </visual>
  <collision>
    <origin xyz="0.018779 0.032526 -0.024275" rpy="0 0 0"/>
    <geometry>
      <mesh filename="meshes/Hip_Mount_61.stl" scale="0.001 0.001 0.001"/>
    </geometry>
  </collision>
</link>

<link name="9g_servo_6B1">
  <inertial>
    <origin xyz="-0.0024143350513842303 0.0008108499730559854 -0.013240625385414076" rpy="0 0 0"/>
    <mass value="0.055054783555037685"/>
    <inertia ixx="3.7202289065961503e-06" iyy="4.753159110494169e-06" izz="3.4537201509945244e-06" ixy="8.945448485450332e-07" iyz="1.8968694850744107e-07" ixz="-3.2854093252004874e-07"/>
  </inertial>
  <visual>
    <origin xyz="0.028189 0.057326 -0.022044" rpy="0 0 0"/>
    <geometry>
      <mesh filename="meshes/9g_servo_6B1.stl" scale="0.001 0.001 0.001"/>
    </geometry>
    <material name="yellow"/>
    <material/>
  </visual>
  <collision>
    <origin xyz="0.028189 0.057326 -0.022044" rpy="0 0 0"/>
    <geometry>
      <mesh filename="meshes/9g_servo_6B1.stl" scale="0.001 0.001 0.001"/>
    </geometry>
  </collision>
</link>

<link name="Hex_Leg_Joint_61">
  <inertial>
    <origin xyz="-0.02751420473955897 -0.010438362965465992 -0.00027987853366590737" rpy="0 0 0"/>
    <mass value="0.048136391007076416"/>
    <inertia ixx="8.378658275658992e-06" iyy="1.1721768950081715e-05" izz="1.3118820246999939e-05" ixy="1.2574649983962112e-06" iyz="2.8511816858216646e-09" ixz="2.121746607825181e-09"/>
  </inertial>
  <visual>
    <origin xyz="0.015861 0.064522 -0.014054" rpy="0 0 0"/>
    <geometry>
      <mesh filename="meshes/Hex_Leg_Joint_61.stl" scale="0.001 0.001 0.001"/>
    </geometry>
    <material name="red"/>
    <material/>
  </visual>
  <collision>
    <origin xyz="0.015861 0.064522 -0.014054" rpy="0 0 0"/>
    <geometry>
      <mesh filename="meshes/Hex_Leg_Joint_61.stl" scale="0.001 0.001 0.001"/>
    </geometry>
  </collision>
</link>

<link name="9g_servo_6C1">
  <inertial>
    <origin xyz="-0.0024336894467891224 0.0008204699730596926 -0.013548024268368628" rpy="0 0 0"/>
    <mass value="0.055054783544440045"/>
    <inertia ixx="3.7207830988135763e-06" iyy="4.753326760886253e-06" izz="3.4544315791173444e-06" ixy="8.94236063099605e-07" iyz="-1.8958763468137415e-07" ixz="3.2858574179224216e-07"/>
  </inertial>
  <visual>
    <origin xyz="0.044491 0.085149 -0.027056" rpy="0 0 0"/>
    <geometry>
      <mesh filename="meshes/9g_servo_6C1.stl" scale="0.001 0.001 0.001"/>
    </geometry>
    <material name="yellow"/>
    <material/>
  </visual>
  <collision>
    <origin xyz="0.044491 0.085149 -0.027056" rpy="0 0 0"/>
    <geometry>
      <mesh filename="meshes/9g_servo_6C1.stl" scale="0.001 0.001 0.001"/>
    </geometry>
  </collision>
</link>

<link name="Hex_Leg_End_61">
  <inertial>
    <origin xyz="-0.030903492343781543 -0.021473553371033183 -3.858327119588521e-05" rpy="0 0 0"/>
    <mass value="0.04016569851390237"/>
    <inertia ixx="1.514250326205193e-05" iyy="1.2695999430213406e-05" izz="2.740461506575741e-05" ixy="-2.1172389585832744e-06" iyz="4.376562542773431e-09" ixz="2.5266258929665874e-09"/>
  </inertial>
  <visual>
    <origin xyz="0.032254 0.092004 -0.008069" rpy="0 0 0"/>
    <geometry>
      <mesh filename="meshes/Hex_Leg_End_61.stl" scale="0.001 0.001 0.001"/>
    </geometry>
    <material name="green"/>
    <material/>
  </visual>
  <collision>
    <origin xyz="0.032254 0.092004 -0.008069" rpy="0 0 0"/>
    <geometry>
      <mesh filename="meshes/Hex_Leg_End_61.stl" scale="0.001 0.001 0.001"/>
    </geometry>
  </collision>
</link>

<joint name="Rigid_1" type="fixed">
  <origin xyz="-0.0185 0.0 0.01" rpy="0 0 0"/>
  <parent link="base_link"/>
  <child link="9g_servo_1A1"/>
</joint>

<joint name="Revolute_2" type="continuous">
  <origin xyz="-0.019058 0.0 0.014275" rpy="0 0 0"/>
  <parent link="9g_servo_1A1"/>
  <child link="Hip_Mount_11"/>
  <axis xyz="0.0 -0.0 1.0"/>
  <dynamics damping="0.0" friction="1.0"/>
</joint>
<transmission name="Revolute_2_tran">
  <type>transmission_interface/SimpleTransmission</type>
  <joint name="Revolute_2">
    <hardwareInterface>PositionJointInterface</hardwareInterface>
  </joint>
  <actuator name="Revolute_2_actr">
    <hardwareInterface>PositionJointInterface</hardwareInterface>
    <mechanicalReduction>1</mechanicalReduction>
  </actuator>
</transmission>

<joint name="Rigid_3" type="fixed">
  <origin xyz="-0.026182 -0.00425 -0.002231" rpy="0 0 0"/>
  <parent link="Hip_Mount_11"/>
  <child link="9g_servo_1B1"/>
</joint>

<joint name="Revolute_4" type="continuous">
  <origin xyz="-6.9e-05 -0.014275 -0.00799" rpy="0 0 0"/>
  <parent link="9g_servo_1B1"/>
  <child link="Hex_Leg_Joint_11"/>
  <axis xyz="-0.0 -1.0 0.0"/>
  <dynamics damping="0.0" friction="1.0"/>
</joint>
<transmission name="Revolute_4_tran">
  <type>transmission_interface/SimpleTransmission</type>
  <joint name="Revolute_4">
    <hardwareInterface>PositionJointInterface</hardwareInterface>
  </joint>
  <actuator name="Revolute_4_actr">
    <hardwareInterface>PositionJointInterface</hardwareInterface>
    <mechanicalReduction>1</mechanicalReduction>
  </actuator>
</transmission>

<joint name="Rigid_5" type="fixed">
  <origin xyz="-0.032177 0.014481 0.013002" rpy="0 0 0"/>
  <parent link="Hex_Leg_Joint_11"/>
  <child link="9g_servo_1C1"/>
</joint>

<joint name="Revolute_6" type="continuous">
  <origin xyz="0.000182 -0.014025 -0.018987" rpy="0 0 0"/>
  <parent link="9g_servo_1C1"/>
  <child link="Hex_Leg_End_11"/>
  <axis xyz="0.0 -1.0 -0.0"/>
  <dynamics damping="0.0" friction="1.0"/>
</joint>
<transmission name="Revolute_6_tran">
  <type>transmission_interface/SimpleTransmission</type>
  <joint name="Revolute_6">
    <hardwareInterface>PositionJointInterface</hardwareInterface>
  </joint>
  <actuator name="Revolute_6_actr">
    <hardwareInterface>PositionJointInterface</hardwareInterface>
    <mechanicalReduction>1</mechanicalReduction>
  </actuator>
</transmission>

<joint name="Rigid_7" type="fixed">
  <origin xyz="-0.00925 0.016021 0.01" rpy="0 0 0"/>
  <parent link="base_link"/>
  <child link="9g_servo_2A1"/>
</joint>

<joint name="Revolute_8" type="continuous">
  <origin xyz="-0.009529 0.016505 0.014275" rpy="0 0 0"/>
  <parent link="9g_servo_2A1"/>
  <child link="Hip_Mount_21"/>
  <axis xyz="-0.0 0.0 1.0"/>
  <dynamics damping="0.0" friction="1.0"/>
</joint>
<transmission name="Revolute_8_tran">
  <type>transmission_interface/SimpleTransmission</type>
  <joint name="Revolute_8">
    <hardwareInterface>PositionJointInterface</hardwareInterface>
  </joint>
  <actuator name="Revolute_8_actr">
    <hardwareInterface>PositionJointInterface</hardwareInterface>
    <mechanicalReduction>1</mechanicalReduction>
  </actuator>
</transmission>

<joint name="Rigid_9" type="fixed">
  <origin xyz="-0.016772 0.02055 -0.002231" rpy="0 0 0"/>
  <parent link="Hip_Mount_21"/>
  <child link="9g_servo_2B1"/>
</joint>

<joint name="Revolute_10" type="continuous">
  <origin xyz="-0.012397 -0.007079 -0.00799" rpy="0 0 0"/>
  <parent link="9g_servo_2B1"/>
  <child link="Hex_Leg_Joint_21"/>
  <axis xyz="-0.866025 -0.5 0.0"/>
  <dynamics damping="0.0" friction="1.0"/>
</joint>
<transmission name="Revolute_10_tran">
  <type>transmission_interface/SimpleTransmission</type>
  <joint name="Revolute_10">
    <hardwareInterface>PositionJointInterface</hardwareInterface>
  </joint>
  <actuator name="Revolute_10_actr">
    <hardwareInterface>PositionJointInterface</hardwareInterface>
    <mechanicalReduction>1</mechanicalReduction>
  </actuator>
</transmission>

<joint name="Rigid_11" type="fixed">
  <origin xyz="-0.003548 0.035108 0.013002" rpy="0 0 0"/>
  <parent link="Hex_Leg_Joint_21"/>
  <child link="9g_servo_2C1"/>
</joint>

<joint name="Revolute_12" type="continuous">
  <origin xyz="-0.012055 -0.007171 -0.018987" rpy="0 0 0"/>
  <parent link="9g_servo_2C1"/>
  <child link="Hex_Leg_End_21"/>
  <axis xyz="-0.866025 -0.5 0.0"/>
  <dynamics damping="0.0" friction="1.0"/>
</joint>
<transmission name="Revolute_12_tran">
  <type>transmission_interface/SimpleTransmission</type>
  <joint name="Revolute_12">
    <hardwareInterface>PositionJointInterface</hardwareInterface>
  </joint>
  <actuator name="Revolute_12_actr">
    <hardwareInterface>PositionJointInterface</hardwareInterface>
    <mechanicalReduction>1</mechanicalReduction>
  </actuator>
</transmission>

<joint name="Rigid_13" type="fixed">
  <origin xyz="0.00925 0.016021 0.01" rpy="0 0 0"/>
  <parent link="base_link"/>
  <child link="9g_servo_3A1"/>
</joint>

<joint name="Revolute_14" type="continuous">
  <origin xyz="0.009529 0.016505 0.014275" rpy="0 0 0"/>
  <parent link="9g_servo_3A1"/>
  <child link="Hip_Mount_31"/>
  <axis xyz="-0.0 0.0 1.0"/>
  <dynamics damping="0.0" friction="1.0"/>
</joint>
<transmission name="Revolute_14_tran">
  <type>transmission_interface/SimpleTransmission</type>
  <joint name="Revolute_14">
    <hardwareInterface>PositionJointInterface</hardwareInterface>
  </joint>
  <actuator name="Revolute_14_actr">
    <hardwareInterface>PositionJointInterface</hardwareInterface>
    <mechanicalReduction>1</mechanicalReduction>
  </actuator>
</transmission>

<joint name="Rigid_15" type="fixed">
  <origin xyz="0.00941 0.0248 -0.002231" rpy="0 0 0"/>
  <parent link="Hip_Mount_31"/>
  <child link="9g_servo_3B1"/>
</joint>

<joint name="Revolute_16" type="continuous">
  <origin xyz="-0.012328 0.007196 -0.00799" rpy="0 0 0"/>
  <parent link="9g_servo_3B1"/>
  <child link="Hex_Leg_Joint_31"/>
  <axis xyz="-0.866025 0.5 0.0"/>
  <dynamics damping="0.0" friction="1.0"/>
</joint>
<transmission name="Revolute_16_tran">
  <type>transmission_interface/SimpleTransmission</type>
  <joint name="Revolute_16">
    <hardwareInterface>PositionJointInterface</hardwareInterface>
  </joint>
  <actuator name="Revolute_16_actr">
    <hardwareInterface>PositionJointInterface</hardwareInterface>
    <mechanicalReduction>1</mechanicalReduction>
  </actuator>
</transmission>

<joint name="Rigid_17" type="fixed">
  <origin xyz="0.02863 0.020627 0.013002" rpy="0 0 0"/>
  <parent link="Hex_Leg_Joint_31"/>
  <child link="9g_servo_3C1"/>
</joint>

<joint name="Revolute_18" type="continuous">
  <origin xyz="-0.012237 0.006855 -0.018987" rpy="0 0 0"/>
  <parent link="9g_servo_3C1"/>
  <child link="Hex_Leg_End_31"/>
  <axis xyz="-0.866025 0.5 -0.0"/>
  <dynamics damping="0.0" friction="1.0"/>
</joint>
<transmission name="Revolute_18_tran">
  <type>transmission_interface/SimpleTransmission</type>
  <joint name="Revolute_18">
    <hardwareInterface>PositionJointInterface</hardwareInterface>
  </joint>
  <actuator name="Revolute_18_actr">
    <hardwareInterface>PositionJointInterface</hardwareInterface>
    <mechanicalReduction>1</mechanicalReduction>
  </actuator>
</transmission>

<joint name="Rigid_19" type="fixed">
  <origin xyz="0.0185 0.0 0.01" rpy="0 0 0"/>
  <parent link="base_link"/>
  <child link="9g_servo_4A1"/>
</joint>

<joint name="Revolute_20" type="continuous">
  <origin xyz="0.019058 -0.0 0.014275" rpy="0 0 0"/>
  <parent link="9g_servo_4A1"/>
  <child link="Hip_Mount_41"/>
  <axis xyz="-0.0 -0.0 -1.0"/>
  <dynamics damping="0.0" friction="1.0"/>
</joint>
<transmission name="Revolute_20_tran">
  <type>transmission_interface/SimpleTransmission</type>
  <joint name="Revolute_20">
    <hardwareInterface>PositionJointInterface</hardwareInterface>
  </joint>
  <actuator name="Revolute_20_actr">
    <hardwareInterface>PositionJointInterface</hardwareInterface>
    <mechanicalReduction>1</mechanicalReduction>
  </actuator>
</transmission>

<joint name="Rigid_21" type="fixed">
  <origin xyz="0.026182 0.00425 -0.002231" rpy="0 0 0"/>
  <parent link="Hip_Mount_41"/>
  <child link="9g_servo_4B1"/>
</joint>

<joint name="Revolute_22" type="continuous">
  <origin xyz="6.9e-05 0.014275 -0.00799" rpy="0 0 0"/>
  <parent link="9g_servo_4B1"/>
  <child link="Hex_Leg_Joint_41"/>
  <axis xyz="-0.0 -1.0 -0.0"/>
  <dynamics damping="0.0" friction="1.0"/>
</joint>
<transmission name="Revolute_22_tran">
  <type>transmission_interface/SimpleTransmission</type>
  <joint name="Revolute_22">
    <hardwareInterface>PositionJointInterface</hardwareInterface>
  </joint>
  <actuator name="Revolute_22_actr">
    <hardwareInterface>PositionJointInterface</hardwareInterface>
    <mechanicalReduction>1</mechanicalReduction>
  </actuator>
</transmission>

<joint name="Rigid_23" type="fixed">
  <origin xyz="0.032177 -0.014481 0.013002" rpy="0 0 0"/>
  <parent link="Hex_Leg_Joint_41"/>
  <child link="9g_servo_4C1"/>
</joint>

<joint name="Revolute_24" type="continuous">
  <origin xyz="-0.000182 0.014025 -0.018987" rpy="0 0 0"/>
  <parent link="9g_servo_4C1"/>
  <child link="Hex_Leg_End_41"/>
  <axis xyz="0.0 -1.0 0.0"/>
  <dynamics damping="0.0" friction="1.0"/>
</joint>
<transmission name="Revolute_24_tran">
  <type>transmission_interface/SimpleTransmission</type>
  <joint name="Revolute_24">
    <hardwareInterface>PositionJointInterface</hardwareInterface>
  </joint>
  <actuator name="Revolute_24_actr">
    <hardwareInterface>PositionJointInterface</hardwareInterface>
    <mechanicalReduction>1</mechanicalReduction>
  </actuator>
</transmission>

<joint name="Rigid_25" type="fixed">
  <origin xyz="0.00925 -0.016021 0.01" rpy="0 0 0"/>
  <parent link="base_link"/>
  <child link="9g_servo_5A1"/>
</joint>

<joint name="Revolute_26" type="continuous">
  <origin xyz="0.009529 -0.016505 0.014275" rpy="0 0 0"/>
  <parent link="9g_servo_5A1"/>
  <child link="Hip_Mount_51"/>
  <axis xyz="-0.0 0.0 -1.0"/>
  <dynamics damping="0.0" friction="1.0"/>
</joint>
<transmission name="Revolute_26_tran">
  <type>transmission_interface/SimpleTransmission</type>
  <joint name="Revolute_26">
    <hardwareInterface>PositionJointInterface</hardwareInterface>
  </joint>
  <actuator name="Revolute_26_actr">
    <hardwareInterface>PositionJointInterface</hardwareInterface>
    <mechanicalReduction>1</mechanicalReduction>
  </actuator>
</transmission>

<joint name="Rigid_27" type="fixed">
  <origin xyz="0.016772 -0.02055 -0.002231" rpy="0 0 0"/>
  <parent link="Hip_Mount_51"/>
  <child link="9g_servo_5B1"/>
</joint>

<joint name="Revolute_28" type="continuous">
  <origin xyz="0.012397 0.007079 -0.00799" rpy="0 0 0"/>
  <parent link="9g_servo_5B1"/>
  <child link="Hex_Leg_Joint_51"/>
  <axis xyz="-0.866025 -0.5 -0.0"/>
  <dynamics damping="0.0" friction="1.0"/>
</joint>
<transmission name="Revolute_28_tran">
  <type>transmission_interface/SimpleTransmission</type>
  <joint name="Revolute_28">
    <hardwareInterface>PositionJointInterface</hardwareInterface>
  </joint>
  <actuator name="Revolute_28_actr">
    <hardwareInterface>PositionJointInterface</hardwareInterface>
    <mechanicalReduction>1</mechanicalReduction>
  </actuator>
</transmission>

<joint name="Rigid_29" type="fixed">
  <origin xyz="0.003548 -0.035108 0.013002" rpy="0 0 0"/>
  <parent link="Hex_Leg_Joint_51"/>
  <child link="9g_servo_5C1"/>
</joint>

<joint name="Revolute_30" type="continuous">
  <origin xyz="0.012055 0.007171 -0.018987" rpy="0 0 0"/>
  <parent link="9g_servo_5C1"/>
  <child link="Hex_Leg_End_51"/>
  <axis xyz="-0.866025 -0.5 -0.0"/>
  <dynamics damping="0.0" friction="1.0"/>
</joint>
<transmission name="Revolute_30_tran">
  <type>transmission_interface/SimpleTransmission</type>
  <joint name="Revolute_30">
    <hardwareInterface>PositionJointInterface</hardwareInterface>
  </joint>
  <actuator name="Revolute_30_actr">
    <hardwareInterface>PositionJointInterface</hardwareInterface>
    <mechanicalReduction>1</mechanicalReduction>
  </actuator>
</transmission>

<joint name="Rigid_31" type="fixed">
  <origin xyz="-0.00925 -0.016021 0.01" rpy="0 0 0"/>
  <parent link="base_link"/>
  <child link="9g_servo_6A1"/>
</joint>

<joint name="Revolute_32" type="continuous">
  <origin xyz="-0.009529 -0.016505 0.014275" rpy="0 0 0"/>
  <parent link="9g_servo_6A1"/>
  <child link="Hip_Mount_61"/>
  <axis xyz="0.0 -0.0 1.0"/>
  <dynamics damping="0.0" friction="1.0"/>
</joint>
<transmission name="Revolute_32_tran">
  <type>transmission_interface/SimpleTransmission</type>
  <joint name="Revolute_32">
    <hardwareInterface>PositionJointInterface</hardwareInterface>
  </joint>
  <actuator name="Revolute_32_actr">
    <hardwareInterface>PositionJointInterface</hardwareInterface>
    <mechanicalReduction>1</mechanicalReduction>
  </actuator>
</transmission>

<joint name="Rigid_33" type="fixed">
  <origin xyz="-0.00941 -0.0248 -0.002231" rpy="0 0 0"/>
  <parent link="Hip_Mount_61"/>
  <child link="9g_servo_6B1"/>
</joint>

<joint name="Revolute_34" type="continuous">
  <origin xyz="0.012328 -0.007196 -0.00799" rpy="0 0 0"/>
  <parent link="9g_servo_6B1"/>
  <child link="Hex_Leg_Joint_61"/>
  <axis xyz="0.866025 -0.5 0.0"/>
  <dynamics damping="0.0" friction="1.0"/>
</joint>
<transmission name="Revolute_34_tran">
  <type>transmission_interface/SimpleTransmission</type>
  <joint name="Revolute_34">
    <hardwareInterface>PositionJointInterface</hardwareInterface>
  </joint>
  <actuator name="Revolute_34_actr">
    <hardwareInterface>PositionJointInterface</hardwareInterface>
    <mechanicalReduction>1</mechanicalReduction>
  </actuator>
</transmission>

<joint name="Rigid_35" type="fixed">
  <origin xyz="-0.02863 -0.020627 0.013002" rpy="0 0 0"/>
  <parent link="Hex_Leg_Joint_61"/>
  <child link="9g_servo_6C1"/>
</joint>

<joint name="Revolute_36" type="continuous">
  <origin xyz="0.012237 -0.006855 -0.018987" rpy="0 0 0"/>
  <parent link="9g_servo_6C1"/>
  <child link="Hex_Leg_End_61"/>
  <axis xyz="-0.866025 0.5 0.0"/>
  <dynamics damping="0.0" friction="1.0"/>
</joint>
<transmission name="Revolute_36_tran">
  <type>transmission_interface/SimpleTransmission</type>
  <joint name="Revolute_36">
    <hardwareInterface>PositionJointInterface</hardwareInterface>
  </joint>
  <actuator name="Revolute_36_actr">
    <hardwareInterface>PositionJointInterface</hardwareInterface>
    <mechanicalReduction>1</mechanicalReduction>
  </actuator>
</transmission>

</robot>
